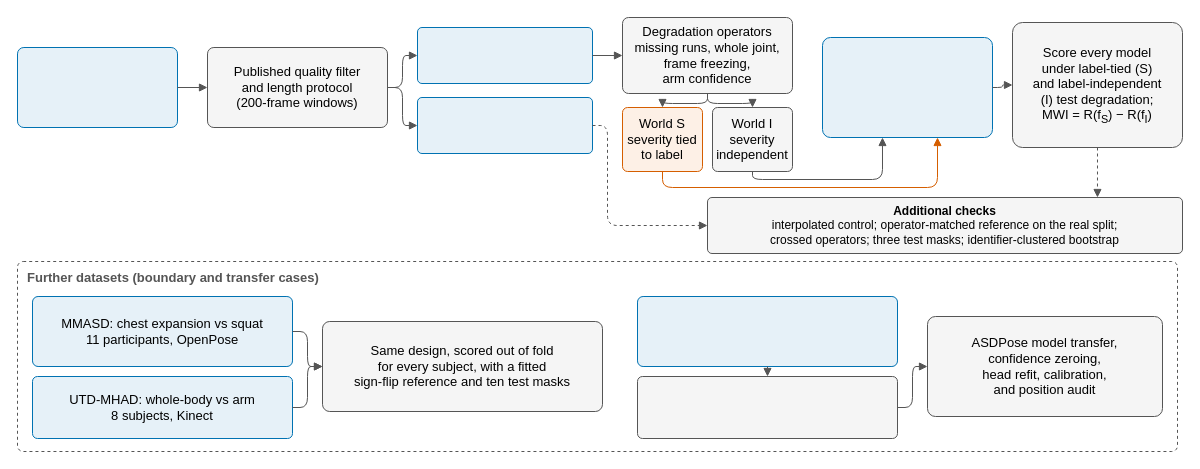
The diagram is 1200 pixels wide and 469 high, and some of its shapes have lost their labels. Here are the shapes that lost their labels. From the top down, the centre of each, then its label:
the point at 504,55: Host: quality-passing segments, both classes
the point at 97,87: ASDPose release 36,928 segments 329 released subject IDs COCO-17 + confidence
the point at 907,87: Train matched models in each world (main Table 1)
the point at 504,125: Real split: all segments (natural cue present)
the point at 767,331: SSBD / ESBD external set 550 windows (127 annotated + 423 negative)
the point at 767,407: Two extraction pipelines: RTMPose with child selection; MediaPipe
